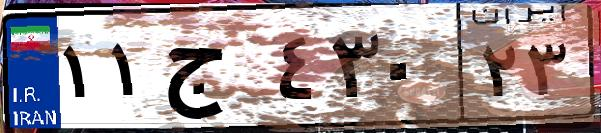0: (385, 28, 445, 110)
1: (57, 26, 110, 100), (110, 28, 158, 98)
2: (475, 38, 525, 113)
3: (330, 28, 385, 110), (525, 38, 570, 115)
4: (270, 28, 330, 110)
ج: (158, 20, 270, 120)
